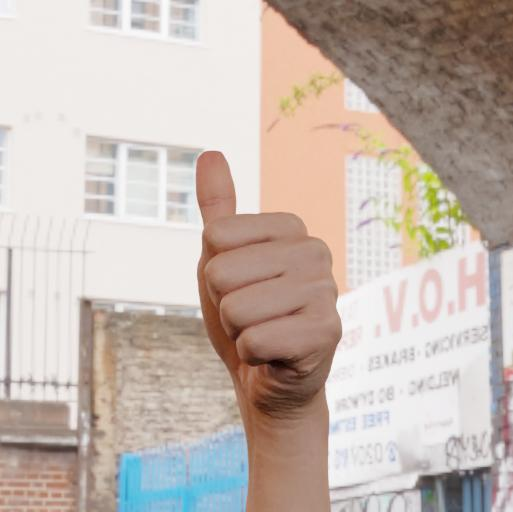thumbs-up: (188, 142, 347, 408)
